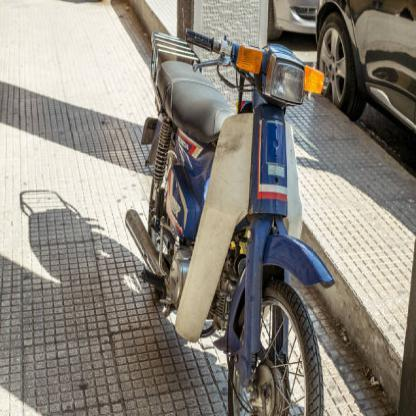Motorcycle: (139, 0, 337, 415)
